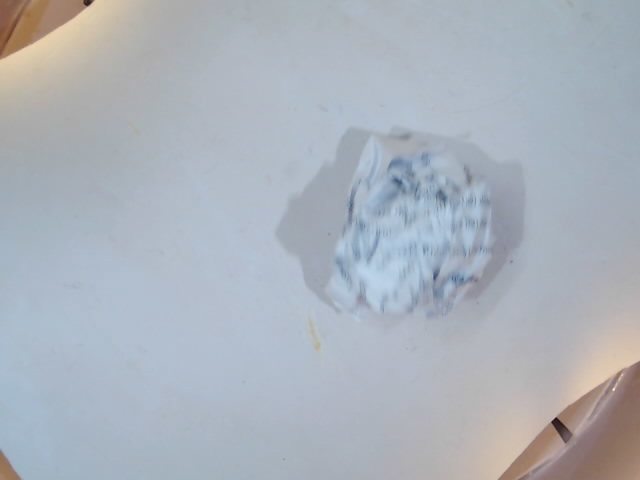tissue: (319, 121, 516, 326)
